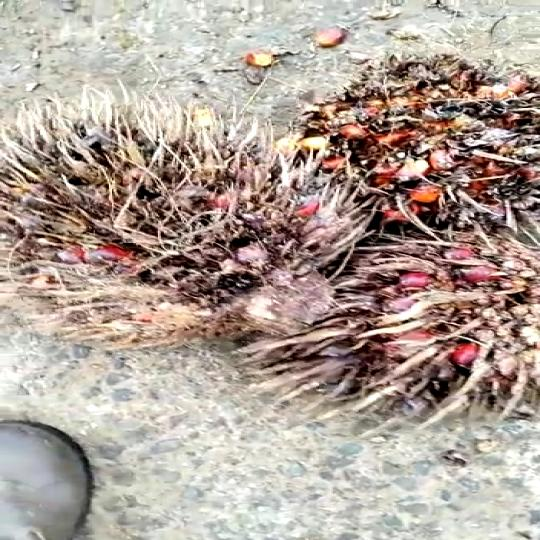terlalu masak: (0, 90, 361, 324), (291, 64, 540, 234)
